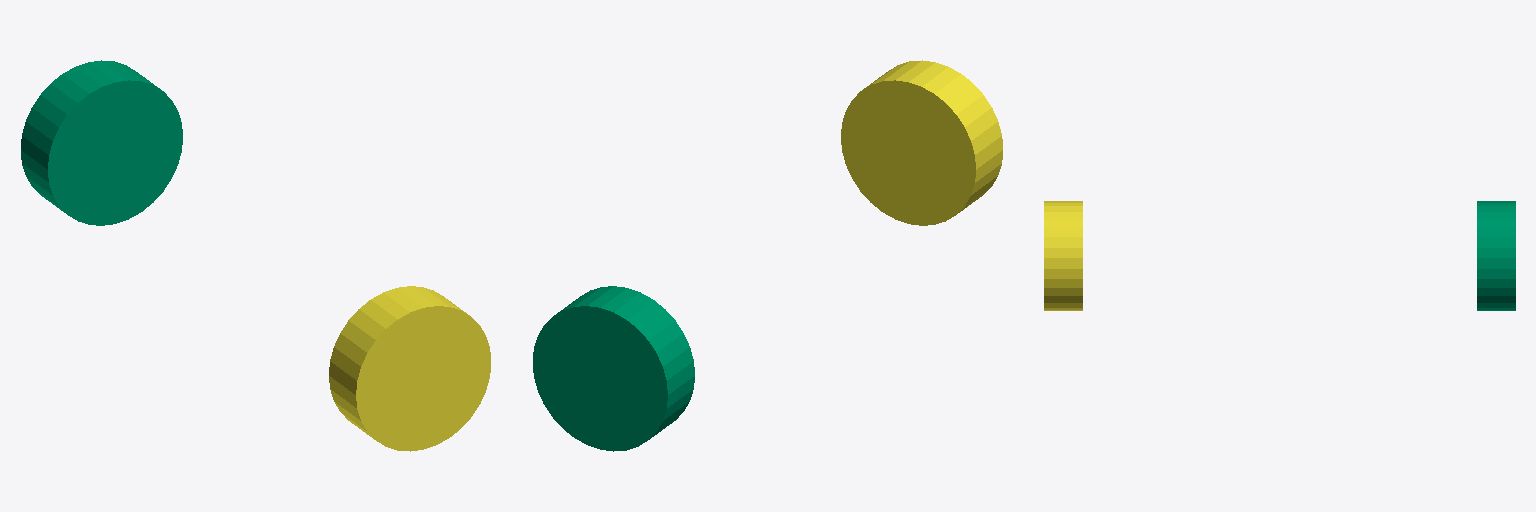
The robot description file, URDF, robot "create":
<?xml version="1.0"?>
<robot name="create">
    <link name="base_footprint">
        <visual name="base_visual">
            <origin xyz="0 0 0.047800" rpy="0 0 0 " />
            <geometry>
                <mesh filename="meshes/create_body.dae"/>
            </geometry>
        </visual>
    </link>
    <link name="us1_link"/>
    <link name="us2_link"/>
    <link name="us3_link"/>
    <link name="us4_link"/>
    <link name="us5_link"/>
    <link name="us6_link"/>
    <link name="us7_link"/>
    <link name="us8_link"/>
    <link name="imu_link"/>
    <link name="left_wheel_link">
        <visual>
            <geometry>
                <cylinder length="0.023000" radius="0.033000"/>
            </geometry>
        </visual>
    </link>
    <link name="right_wheel_link">
        <visual>
            <geometry>
                <cylinder length="0.023000" radius="0.033000"/>
            </geometry>
        </visual>
    </link>
    <joint name="base_us1_joint" type="fixed">
        <parent link="base_footprint"/>
        <child link="us1_link"/>
        <origin xyz="0.13 0.11 0.07" rpy="0 0 1.5708" />
    </joint>
    <joint name="base_us2_joint" type="fixed">
        <parent link="base_footprint"/>
        <child link="us2_link"/>
        <origin xyz="0.11 0.13 0.07" rpy="0 0 0" />
    </joint>
    <joint name="base_us3_joint" type="fixed">
        <parent link="base_footprint"/>
        <child link="us3_link"/>
        <origin xyz="0.11 -0.13 0.07" rpy="0 0 0" />
    </joint>
    <joint name="base_us4_joint" type="fixed">
        <parent link="base_footprint"/>
        <child link="us4_link"/>
        <origin xyz="0.13 -0.11 0.07" rpy="0 0 -1.5708" />
    </joint>
    <joint name="base_us5_joint" type="fixed">
        <parent link="base_footprint"/>
        <child link="us5_link"/>
        <origin xyz="-0.13 -0.11 0.07" rpy="0 0 -1.5708" />
    </joint>
    <joint name="base_us6_joint" type="fixed">
        <parent link="base_footprint"/>
        <child link="us6_link"/>
        <origin xyz="-0.11 -0.13 0.07" rpy="0 0 3.14" />
    </joint>
    <joint name="base_us7_joint" type="fixed">
        <parent link="base_footprint"/>
        <child link="us7_link"/>
        <origin xyz="-0.11 0.13 0.07" rpy="0 0 3.14" />
    </joint>
    <joint name="base_us8_joint" type="fixed">
        <parent link="base_footprint"/>
        <child link="us8_link"/>
        <origin xyz="-0.13 0.11 0.07" rpy="0 0 1.5708" />
    </joint>
    <joint name="base_imu_joint" type="fixed">
        <parent link="base_footprint"/>
        <child link="imu_link"/>
        <origin xyz="0 0 0" rpy="0 0 0" />
    </joint>
    <joint name="left_wheel" type="continuous">
        <parent link="base_footprint"/>
        <child link="left_wheel_link"/>
        <origin xyz="0 0.130000 0.032000" rpy="0 1.5708 1.5708" />
        <axis xyz="0 0 1"/>
    </joint>
    <joint name="right_wheel" type="continuous">
        <parent link="base_footprint"/>
        <child link="right_wheel_link"/>
        <origin xyz="0 -0.130000 0.032000" rpy="0 1.5708 1.5708" />
        <axis xyz="0 0 1"/>
    </joint>
</robot>

--- Facts derived from the render (not from the file) ---
The picture shows the robot from 3 angles, left to right: view 1: azimuth 30°, elevation 25°; view 2: azimuth 150°, elevation 25°; view 3: azimuth 270°, elevation 25°; orthographic projection.
Model create with 12 links and 11 joints (2 continuous, 9 fixed), rooted at base_footprint, posed all joints at 0.
Visible links, largest first — view 1: left_wheel_link, right_wheel_link; view 2: left_wheel_link, right_wheel_link; view 3: left_wheel_link, right_wheel_link.
Boxes of the visible links, <box> form: left_wheel_link: <box>21,60,182,225</box>; right_wheel_link: <box>329,286,490,451</box>; left_wheel_link: <box>533,286,694,451</box>; right_wheel_link: <box>841,60,1002,225</box>; left_wheel_link: <box>1477,201,1515,310</box>; right_wheel_link: <box>1044,201,1082,310</box>.
Bounding box of the posed robot: 0.066 × 0.283 × 0.066 m (x, y, z).
Meshes: 1 distinct files referenced, 0 mesh visuals loaded (none loaded); not drawn: 1 (reference not matched to a file when rendering).